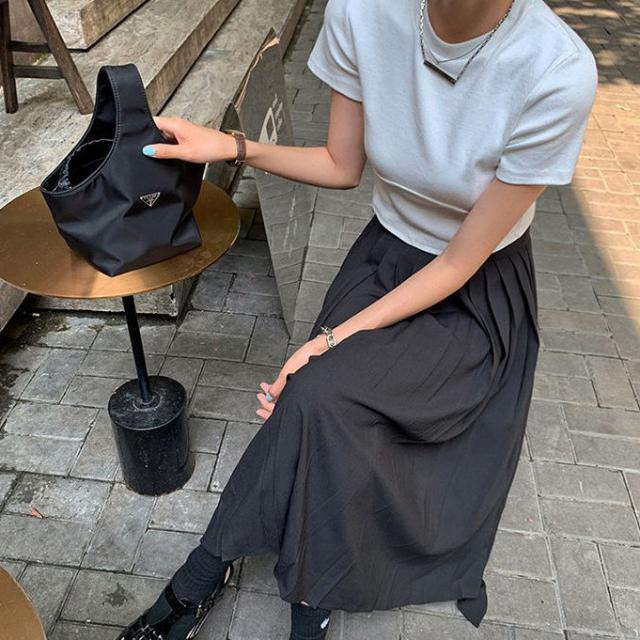Shirt: (306, 0, 606, 256)
